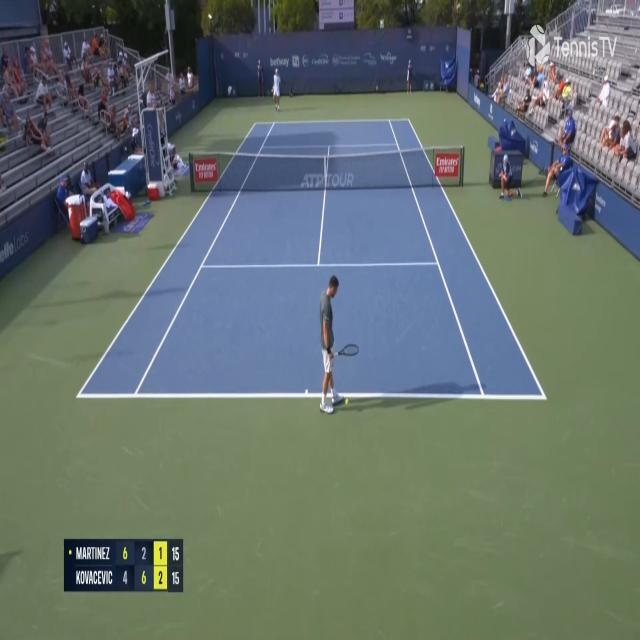tennis-player: (317, 271, 359, 418), (269, 67, 283, 113)
